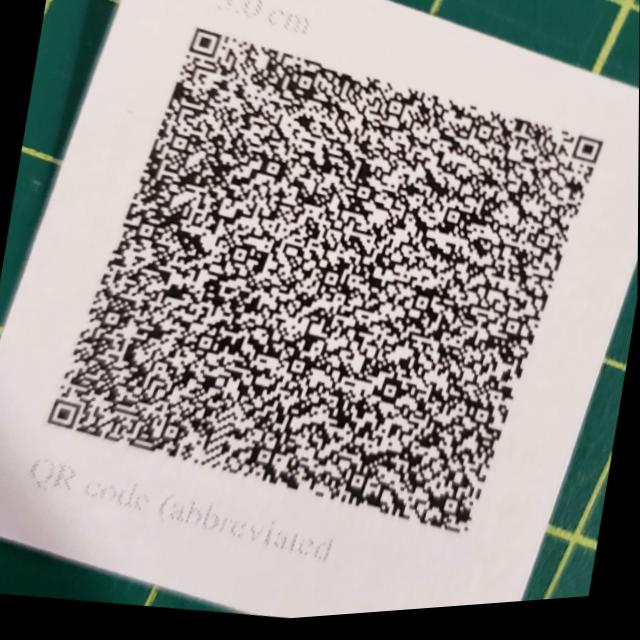QR_CODE: (21, 0, 640, 598)
